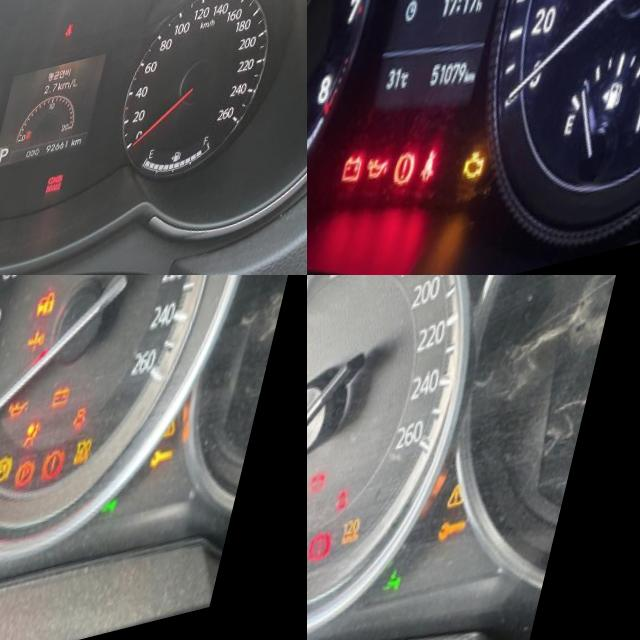Seat Belt: (438, 155, 469, 207)
